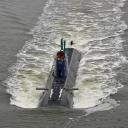submarine: (35, 42, 88, 111)
